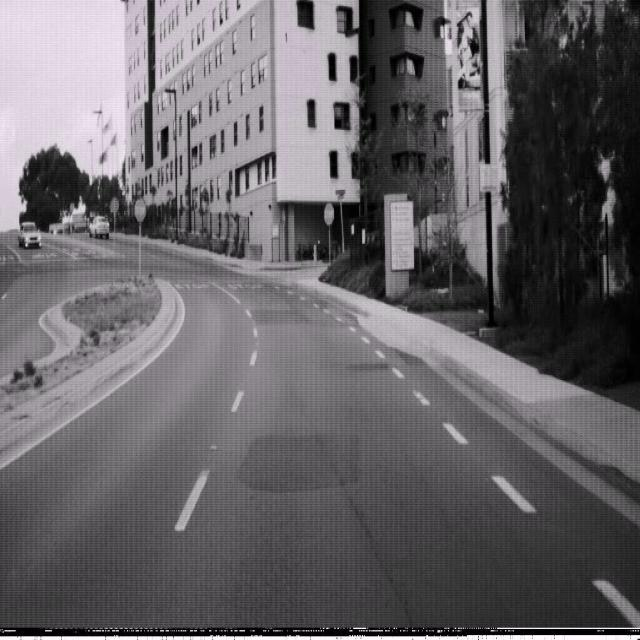stop: (133, 196, 146, 223), (323, 201, 334, 224)
